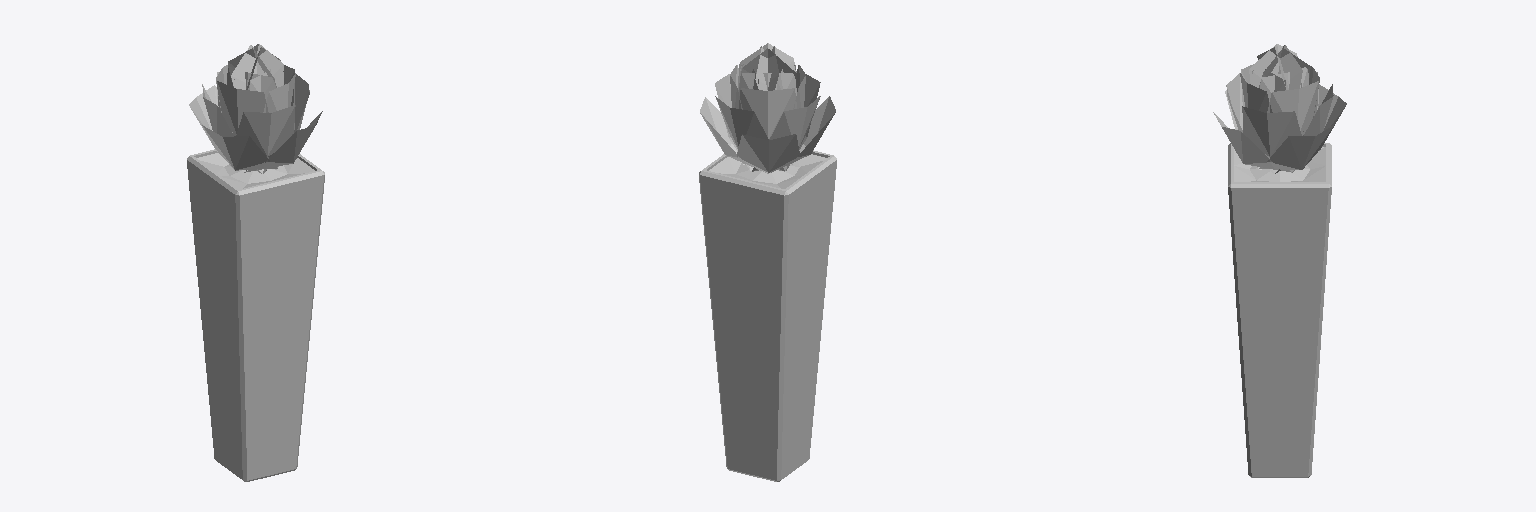
File: square_pine.obj
3 renders of one model, left to right at view 1: azimuth 30°, elevation 25°; view 2: azimuth 150°, elevation 25°; view 3: azimuth 270°, elevation 25°, orthographic.
Parts seen in each view (by area): view 1: Square.003; view 2: Square.003; view 3: Square.003.
Boxes of the visible parts, <box> form: Square.003: <box>187,44,324,481</box>; Square.003: <box>699,43,836,481</box>; Square.003: <box>1213,44,1346,477</box>.
Bounding box in the file's own units: 0.4011 × 1.38 × 0.4011.